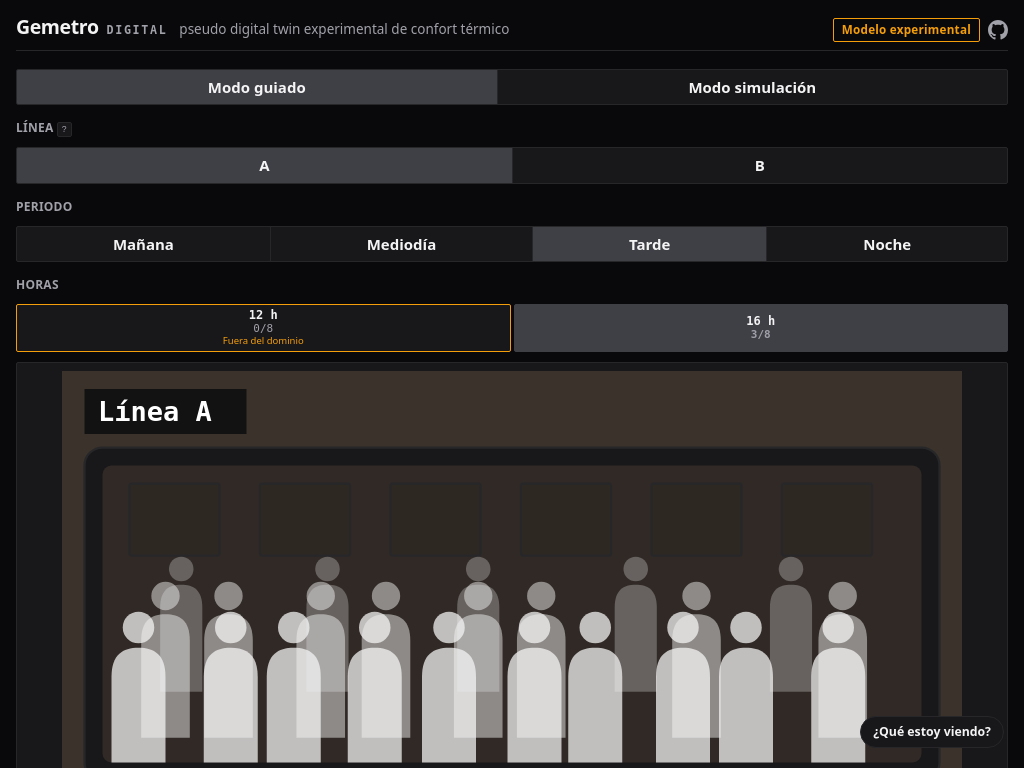
Test: mode switch › switching to simulation mode shows the free-parameter controls
Check: the element named "Modo del simulador" is shown, box [16, 68, 1008, 105]
Click the button "Modo simulación": (752, 87) [498, 70, 1007, 104]
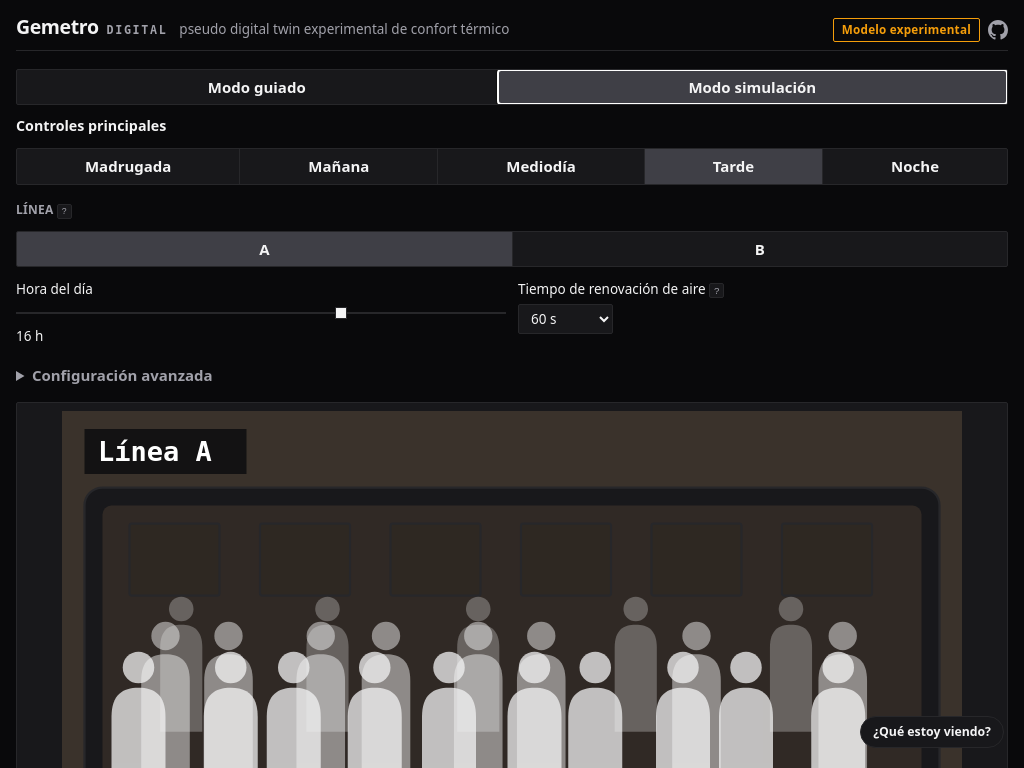
Check: the heading "Configuración avanzada" is shown, box [32, 365, 213, 385]
